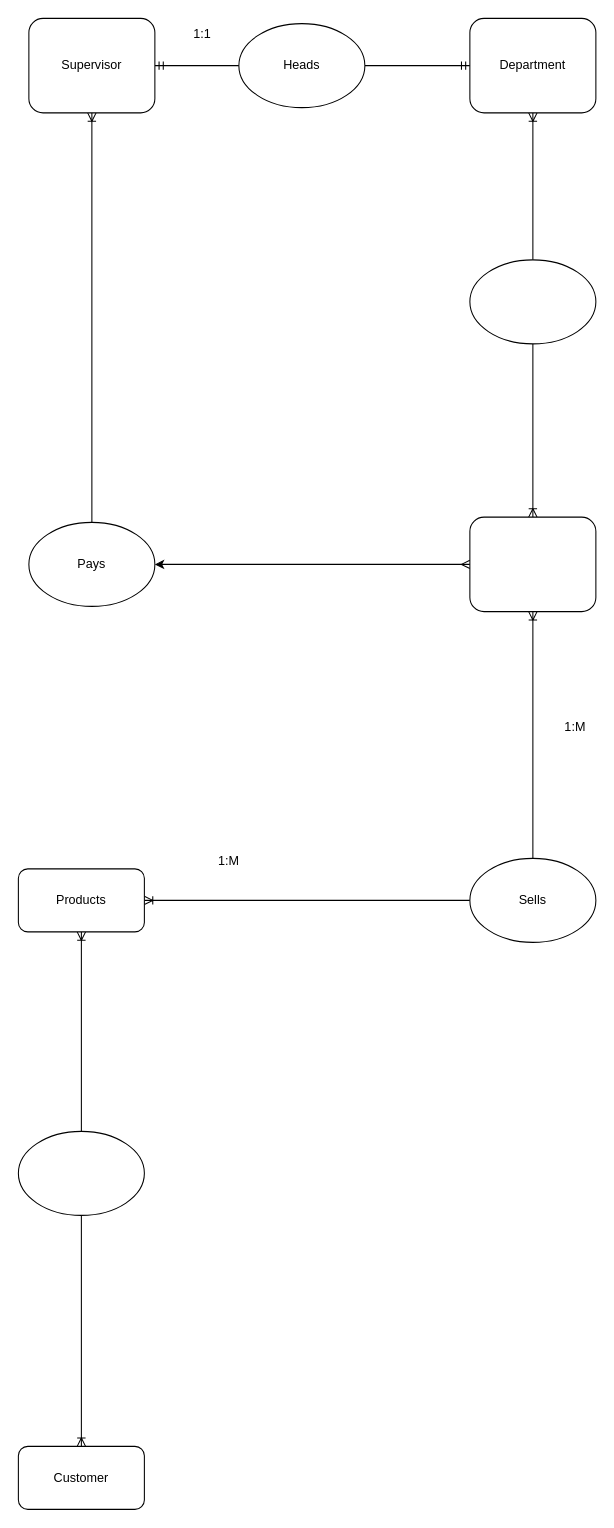
Some shapes in this 614 by 1528 pixel diagram are drawn without their labels. Here are the shapes that lost their labels. From the top down, the centre of each, then its label:
point 532,301: Post
point 532,564: Employees
point 80,1172: Purchase
